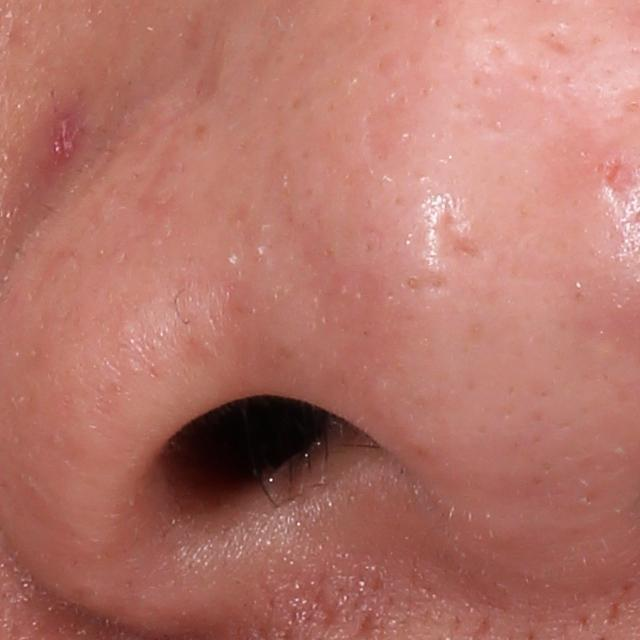atrophic_scar: (428, 201, 490, 279), (534, 25, 578, 58), (597, 152, 628, 197)
